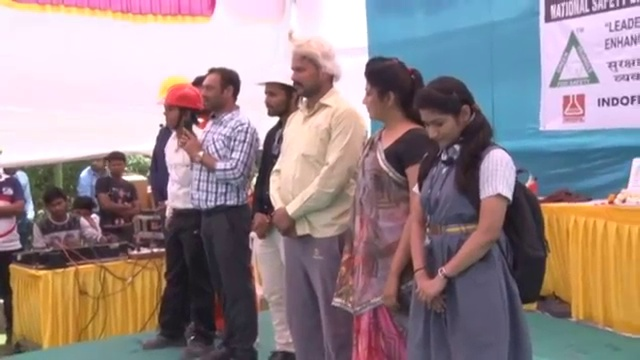helmet: (151, 77, 203, 114), (257, 58, 296, 95)
helmet_off: (413, 72, 483, 164), (361, 57, 422, 133), (284, 42, 343, 97), (197, 68, 240, 117), (43, 190, 68, 222), (72, 198, 98, 222), (107, 156, 126, 182), (88, 157, 109, 173), (3, 167, 19, 180)
helmet_on: (155, 82, 206, 137), (258, 65, 296, 122)
person: (409, 68, 552, 360), (269, 39, 369, 360), (346, 58, 434, 357), (175, 64, 259, 360), (144, 77, 218, 358), (252, 59, 300, 356), (0, 164, 27, 352), (33, 188, 102, 253), (95, 157, 140, 241), (74, 154, 109, 197)
